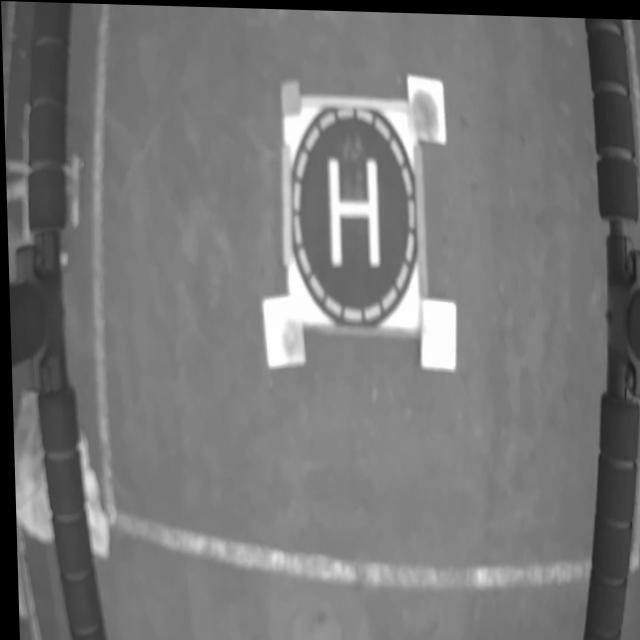Helipad: (327, 155, 378, 263)
